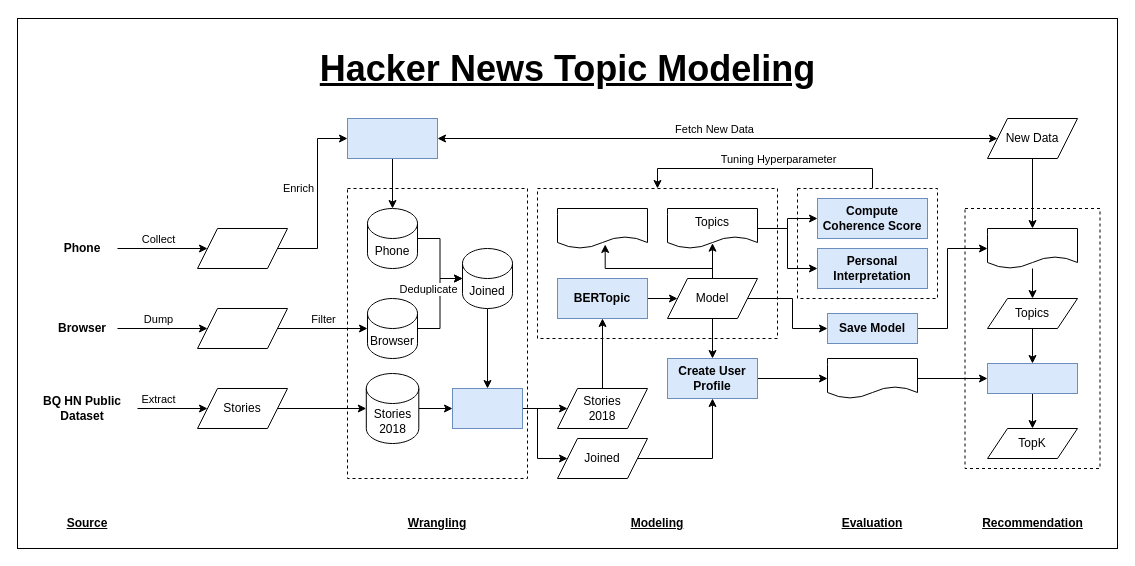
Image size: 1135x566. Some labels were removed from this diagram. The centre of each missing label's shape, as x and y in pixels:
Cleaning: the point at 487,408
HN API: the point at 392,138
Links: the point at 242,248
Recommend: the point at 1032,378
Saved Model: the point at 1032,248
Sessions: the point at 242,328
User's Profile: the point at 872,378
Visualizations: the point at 602,228
